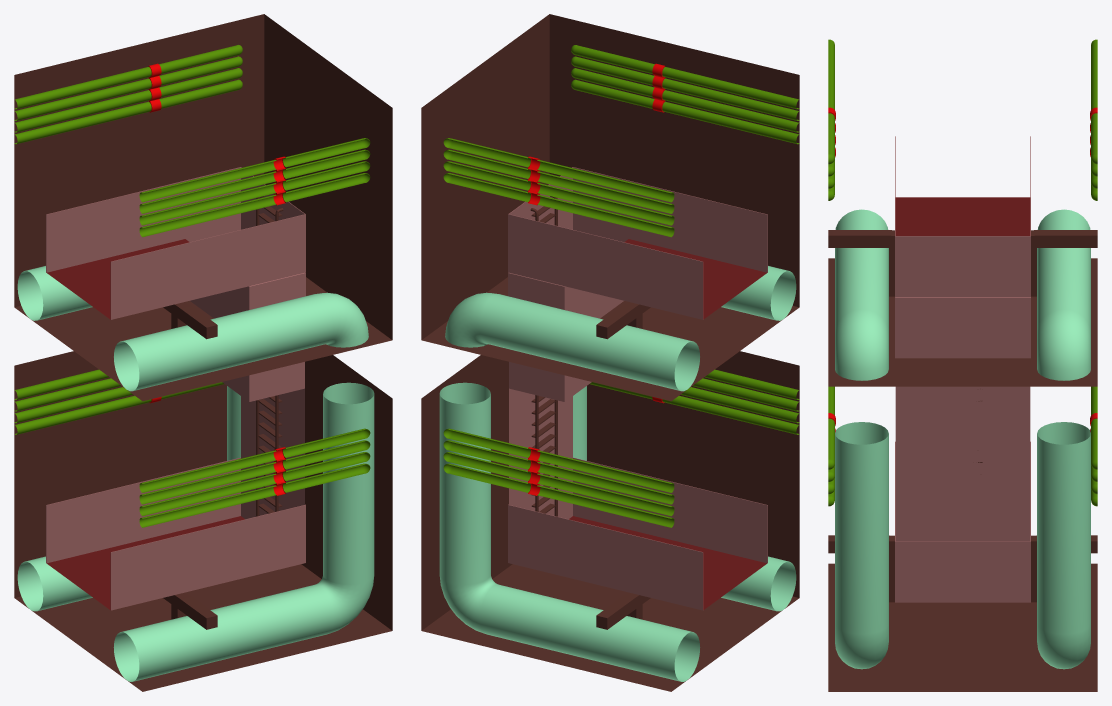
File: DeadEndStair.fbx
3 views of the same model, side by side, from view 1: azimuth 30°, elevation 25°; view 2: azimuth 150°, elevation 25°; view 3: azimuth 270°, elevation 25° (orthographic). The views are drawn at different scales.
Visible parts, largest first — view 1: DeadEndStair; view 2: DeadEndStair; view 3: DeadEndStair.
Boxes of the visible parts, x1,y1,x2,y2 form: DeadEndStair: [14, 14, 392, 691]; DeadEndStair: [421, 14, 799, 691]; DeadEndStair: [828, 39, 1097, 691].
Size of the model in its own units: 4.5 by 9 by 4.
